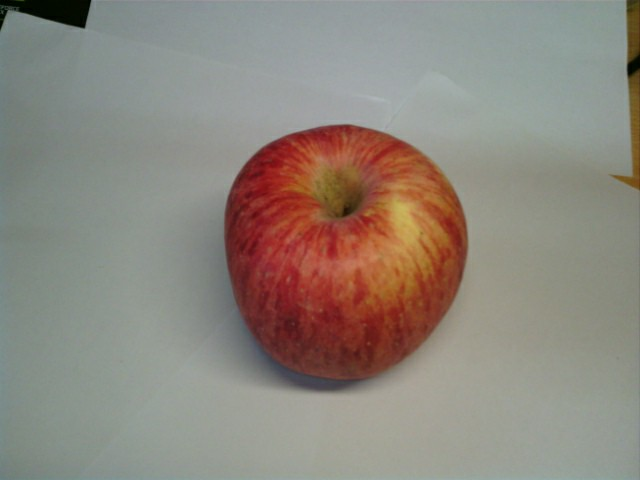normal_apple: (224, 121, 470, 380)
